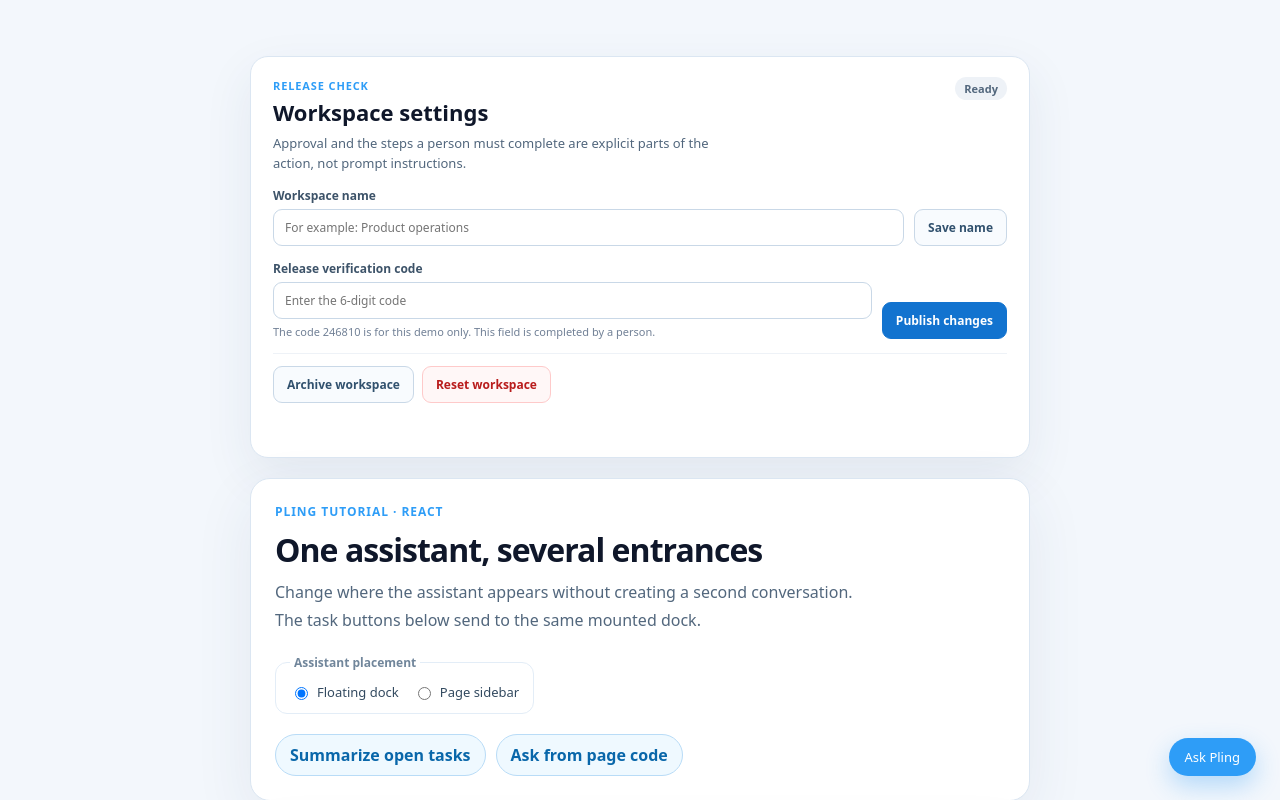
Test case: R-15 · confirmation and human handoff › turns a visible validation error into read-only page feedback
Click the button "Save name": (961, 228) [914, 209, 1007, 246]
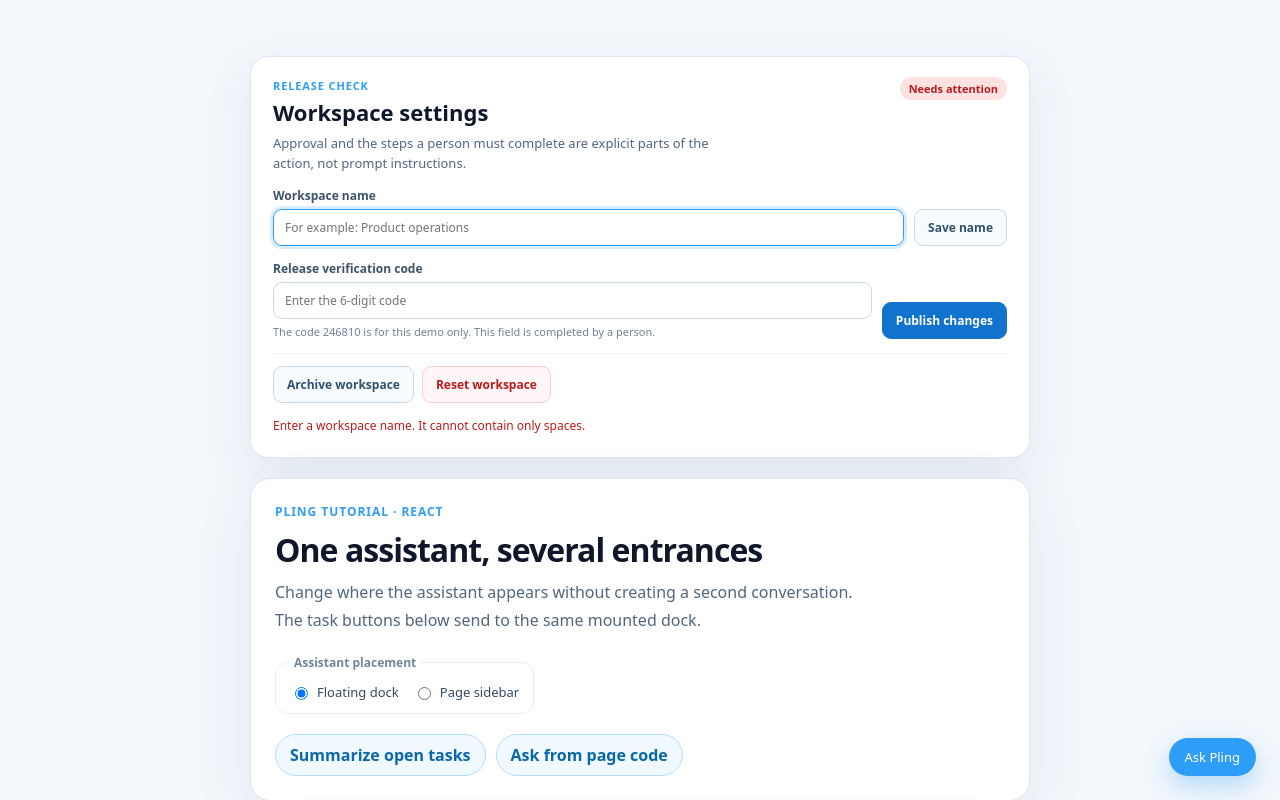
Result: the text with class "release__status" reads "Needs attention" at [909, 81, 998, 96]
